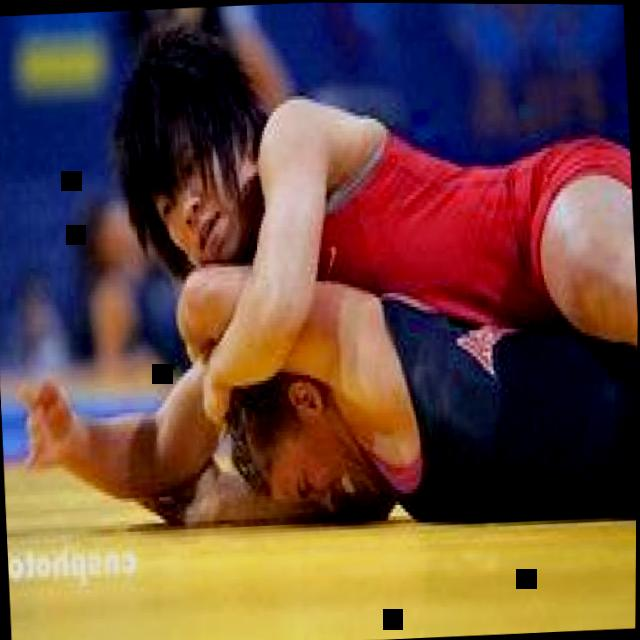Fall-Detected: (51, 2, 640, 556)
